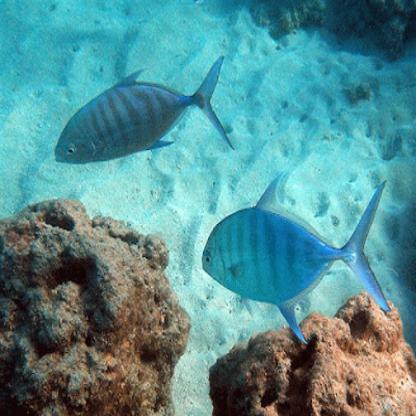jack: (192, 169, 396, 345), (51, 47, 243, 172)
